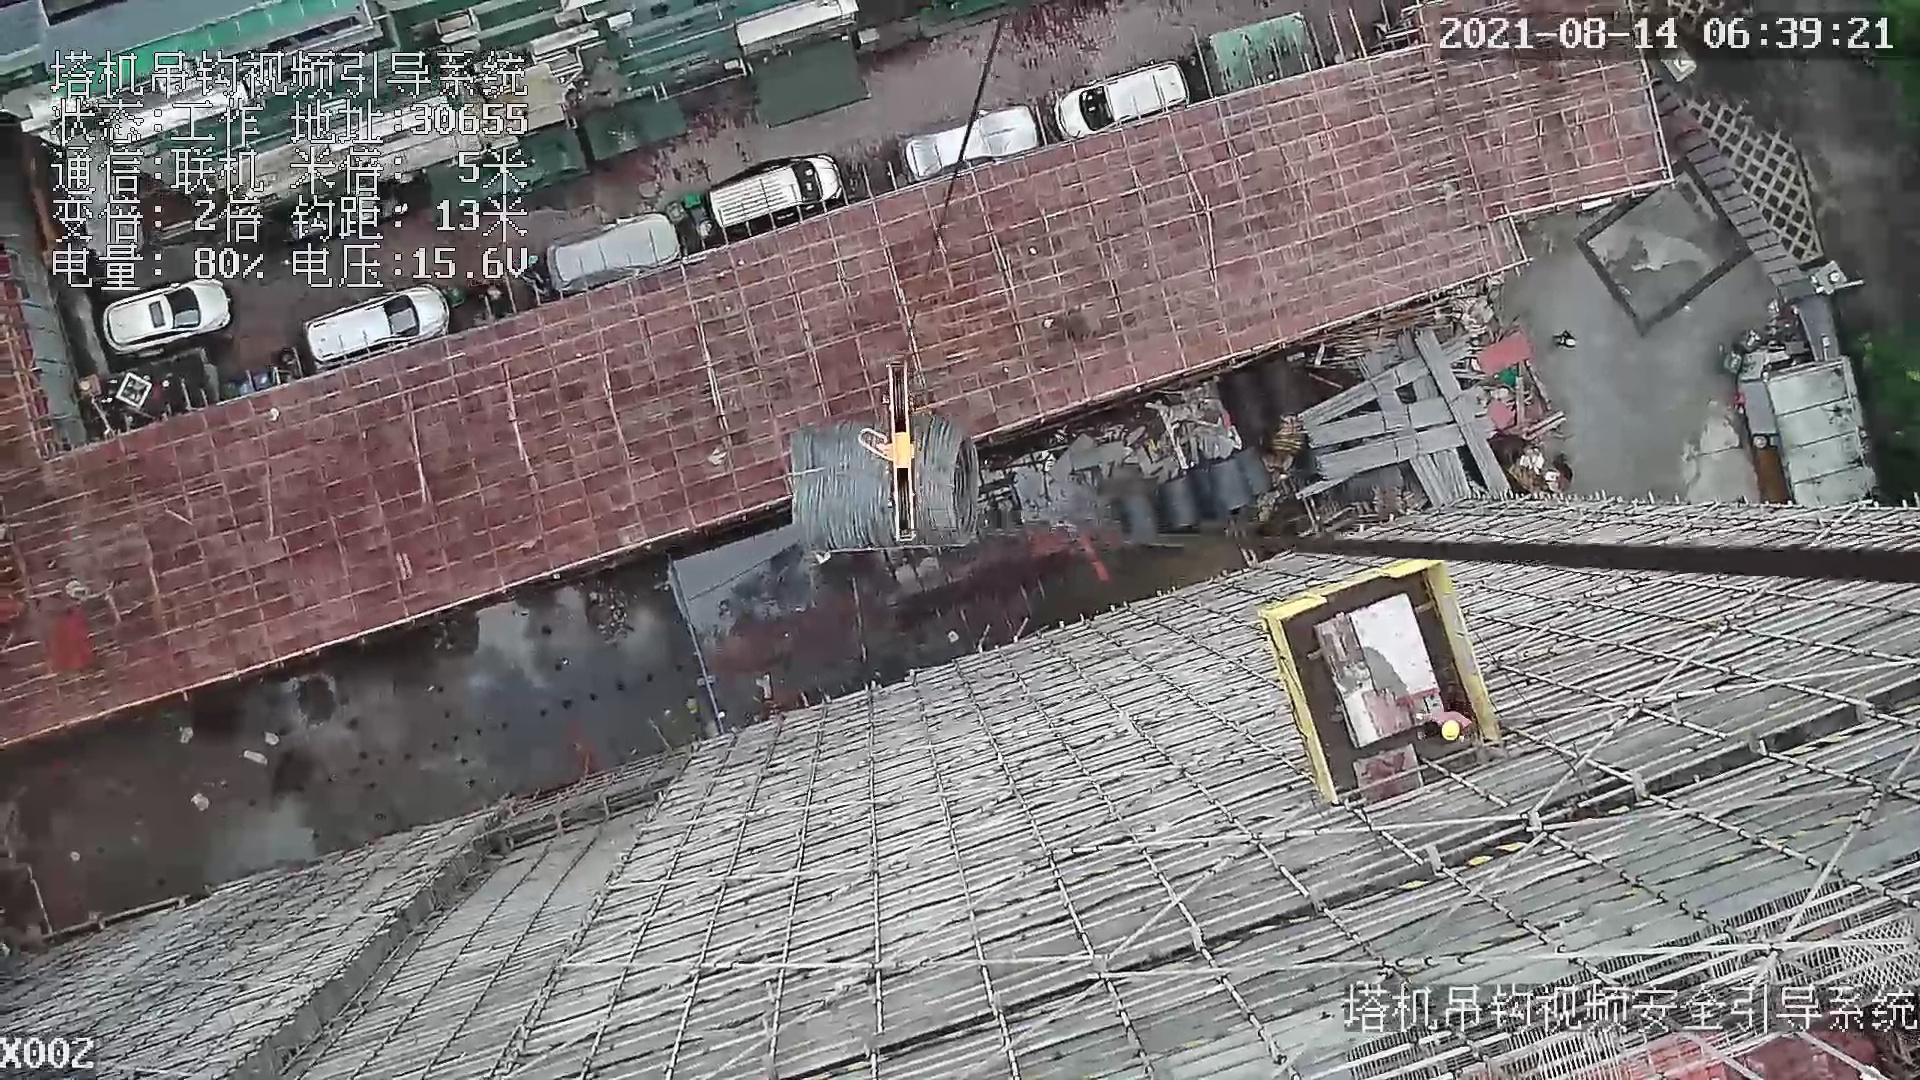helmet: (1440, 715, 1463, 745)
hook: (855, 359, 927, 547)
person: (1412, 697, 1472, 746)
